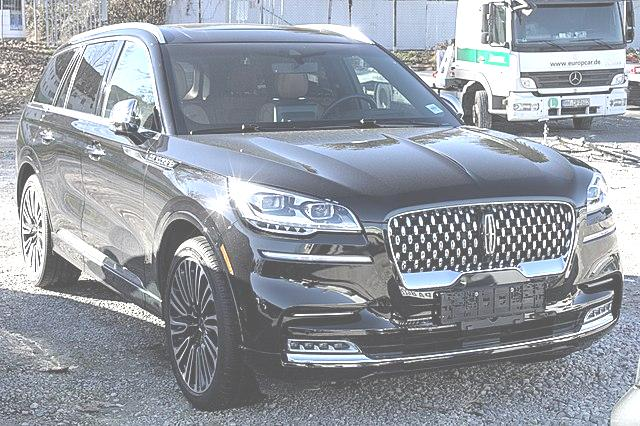lincoln: (475, 210, 505, 261)
